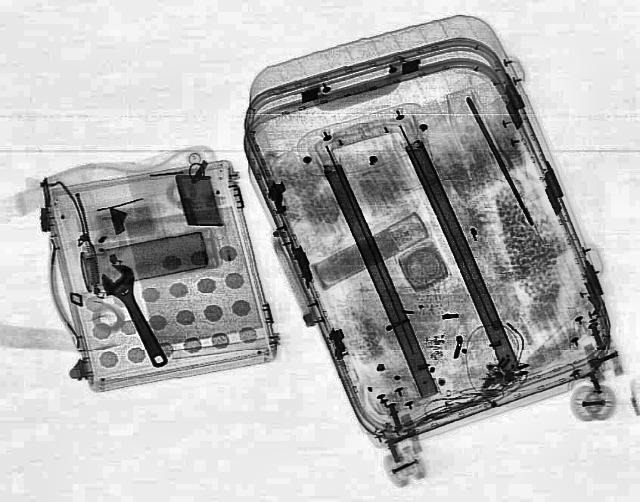Wrench: (93, 259, 179, 369)
